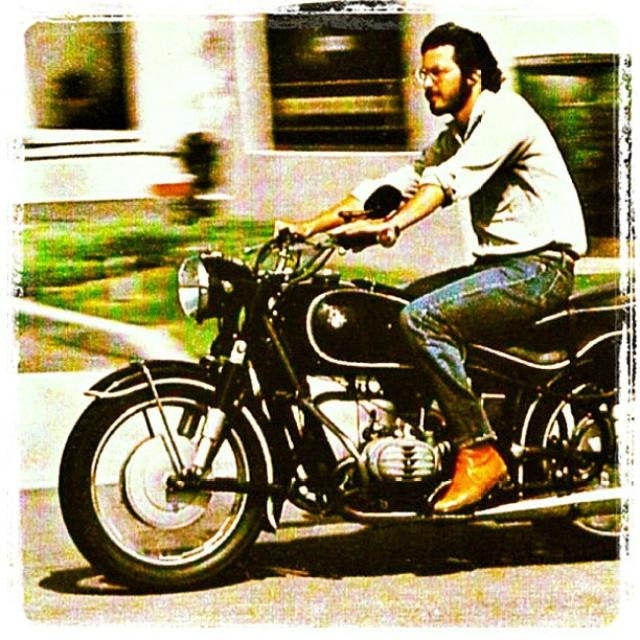motor: (50, 220, 621, 571)
